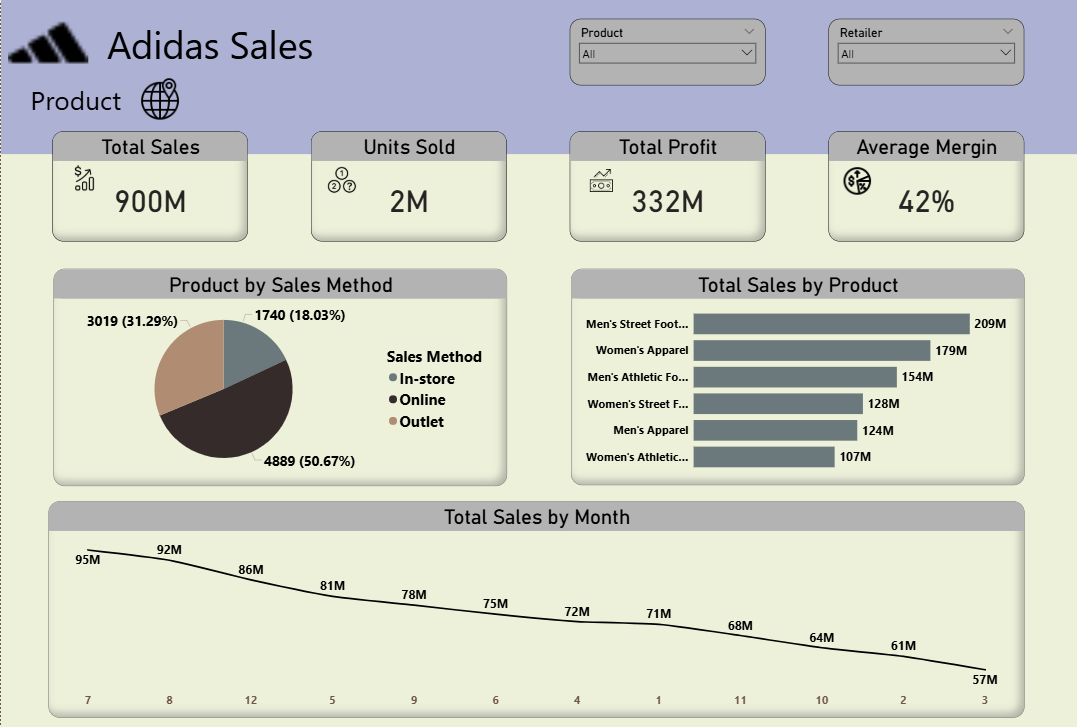

The dashboard page shown, as its layout file describes it:
{"tool":"powerbi","page":{"name":"Overview","canvas":[1920,1300],"ordinal":0},"visuals":[{"type":"shape","box":[0,0,1920,274],"z":0},{"type":"image","box":[0,0,168,152],"z":1000},{"type":"shape","box":[106,0,530,156],"z":2000},{"type":"card","title":"Units Sold","fields":{"Values":["Sum(Sales.Units Sold)"]},"box":[552,234,348,196],"z":3000},{"type":"image","box":[92,288,114,58],"z":4000},{"type":"card","title":"Total Sales","fields":{"Values":["Sum(Sales.Total Sales)"]},"box":[92,234,348,196],"z":5000},{"type":"image","box":[552,288,110,62],"z":6000},{"type":"card","title":"Total Profit","fields":{"Values":["Sum(Sales.Operating Profit)"]},"box":[1012,234,348,196],"z":7000},{"type":"shape","box":[0,98,266,156],"z":8000},{"type":"image","box":[1012,288,112,64],"z":9000},{"type":"card","title":"Average Mergin","fields":{"Values":["Avg(Sales.Operating Margin)"]},"box":[1472,234,348,196],"z":10000},{"type":"image","box":[1472,288,102,66],"z":11000},{"type":"slicer","fields":{"Values":["Sales.Product"]},"box":[1012,34,348,118],"z":12000},{"type":"slicer","fields":{"Values":["Sales.Retailer"]},"box":[1472,34,348,118],"z":13000},{"type":"pieChart","title":"Product by Sales Method","fields":{"Series":["Sales.Sales Method"],"Y":["CountNonNull(Sales.Product)"]},"box":[93.3,477.8,806.7,386.7],"z":14000},{"type":"image","box":[235,131.7,95,90],"z":15000},{"type":"barChart","title":"Total Sales by Product","fields":{"Category":["Sales.Product"],"Y":["Sum(Sales.Total Sales)"]},"box":[1013.3,476.7,806.7,385],"z":16000},{"type":"lineChart","title":"Total Sales by Month","fields":{"Category":["Sales.Month","Sales.Day"],"Y":["Sum(Sales.Total Sales)"]},"box":[85,890,1735,385],"z":17000}]}

Visuals, with their boxes in screenshot pixels (x1, y1, x2, y2), scaled from the page's 1920x1300 canvas onto the 1077x727 screenshot:
shape: detection(0, 0, 1076, 153)
image: detection(0, 0, 94, 85)
shape: detection(59, 0, 357, 87)
"Units Sold" card: detection(310, 131, 505, 240)
image: detection(52, 161, 116, 193)
"Total Sales" card: detection(52, 131, 247, 240)
image: detection(310, 161, 371, 196)
"Total Profit" card: detection(568, 131, 763, 240)
shape: detection(0, 55, 149, 142)
image: detection(568, 161, 630, 197)
"Average Mergin" card: detection(826, 131, 1021, 240)
image: detection(826, 161, 883, 198)
slicer - Sales.Product: detection(568, 19, 763, 85)
slicer - Sales.Retailer: detection(826, 19, 1021, 85)
"Product by Sales Method" pieChart: detection(52, 267, 505, 483)
image: detection(132, 74, 185, 124)
"Total Sales by Product" barChart: detection(568, 267, 1021, 482)
"Total Sales by Month" lineChart: detection(48, 498, 1021, 713)
